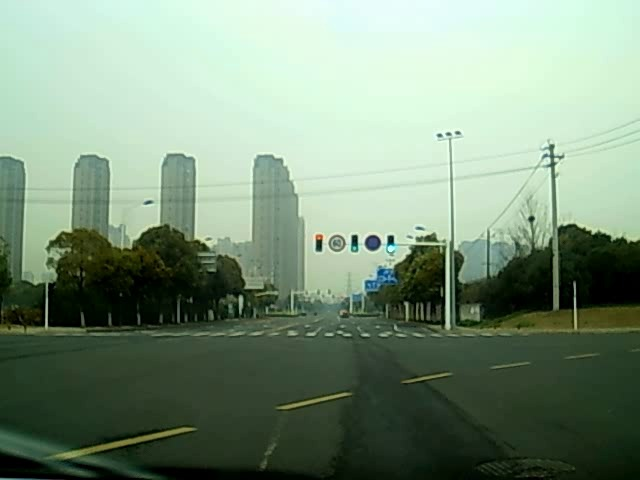Traffic_Light_go: (386, 235, 395, 257), (351, 236, 359, 255)
Traffic_Light_stop: (315, 234, 322, 253)
